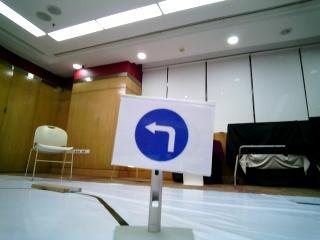left: (123, 100, 200, 168)
